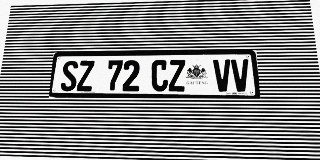2: (122, 60, 140, 91)
7: (105, 60, 123, 91)
C: (151, 60, 168, 91)
S: (60, 61, 78, 91)
V: (213, 59, 232, 92), (231, 59, 250, 92)
Z: (76, 60, 95, 91), (169, 60, 186, 91)
